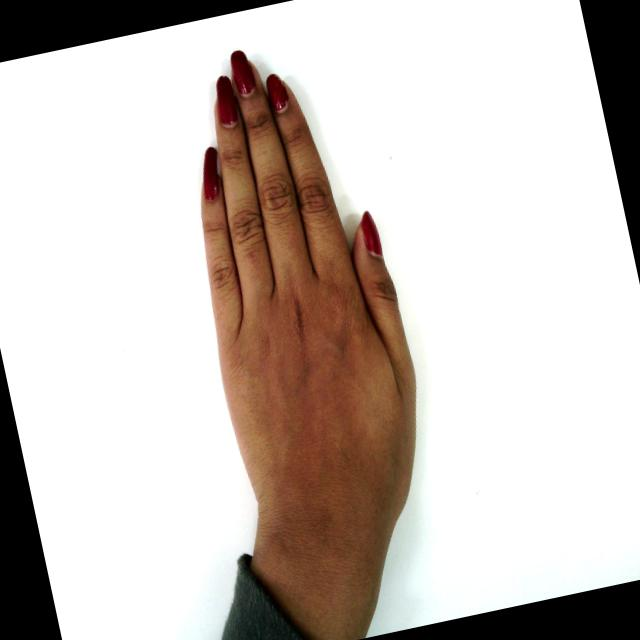Nail: (229, 48, 254, 93), (214, 74, 235, 125), (359, 209, 381, 254), (201, 145, 217, 200), (264, 72, 286, 110)
